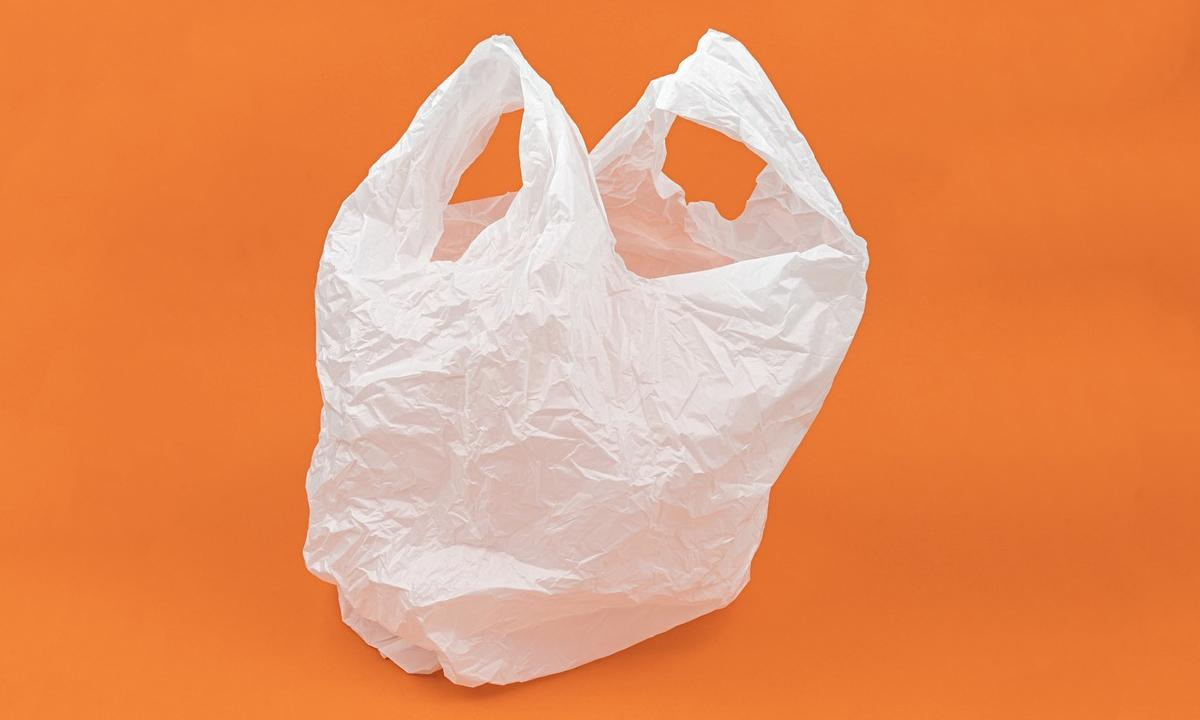plastic: (290, 24, 872, 693)
